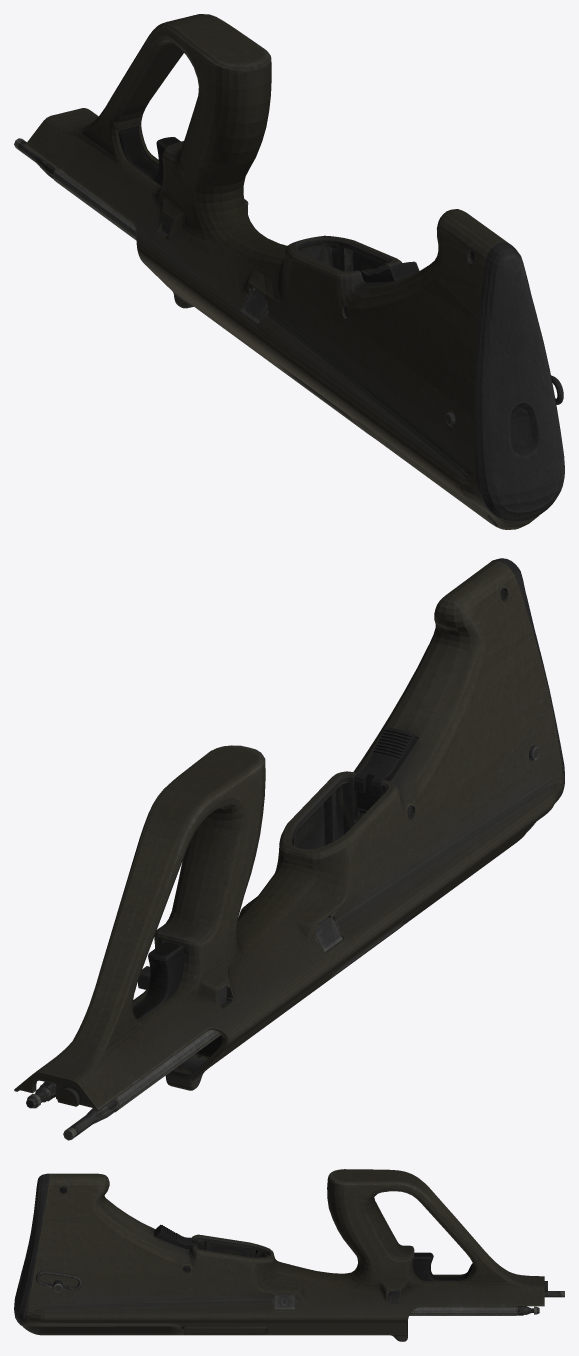
The picture shows the model from 3 angles, top to bottom: view 1: azimuth 30°, elevation 25°; view 2: azimuth 150°, elevation 25°; view 3: azimuth 270°, elevation 25°; orthographic projection. The views are drawn at different scales.
Parts seen in each view (by area): view 1: TW_62e7c4fba689e8c9c50dfc38_PZ_Import; view 2: TW_62e7c4fba689e8c9c50dfc38_PZ_Import; view 3: TW_62e7c4fba689e8c9c50dfc38_PZ_Import.
Boxes of the visible parts, left/top/right/bottom form: TW_62e7c4fba689e8c9c50dfc38_PZ_Import: left=14, top=14, right=564, bottom=529; TW_62e7c4fba689e8c9c50dfc38_PZ_Import: left=14, top=558, right=564, bottom=1140; TW_62e7c4fba689e8c9c50dfc38_PZ_Import: left=14, top=1169, right=564, bottom=1341.
Bounding box in the file's own units: 0.0383 × 0.301 × 0.0993.
Materials: 1 (1 with a texture image).
